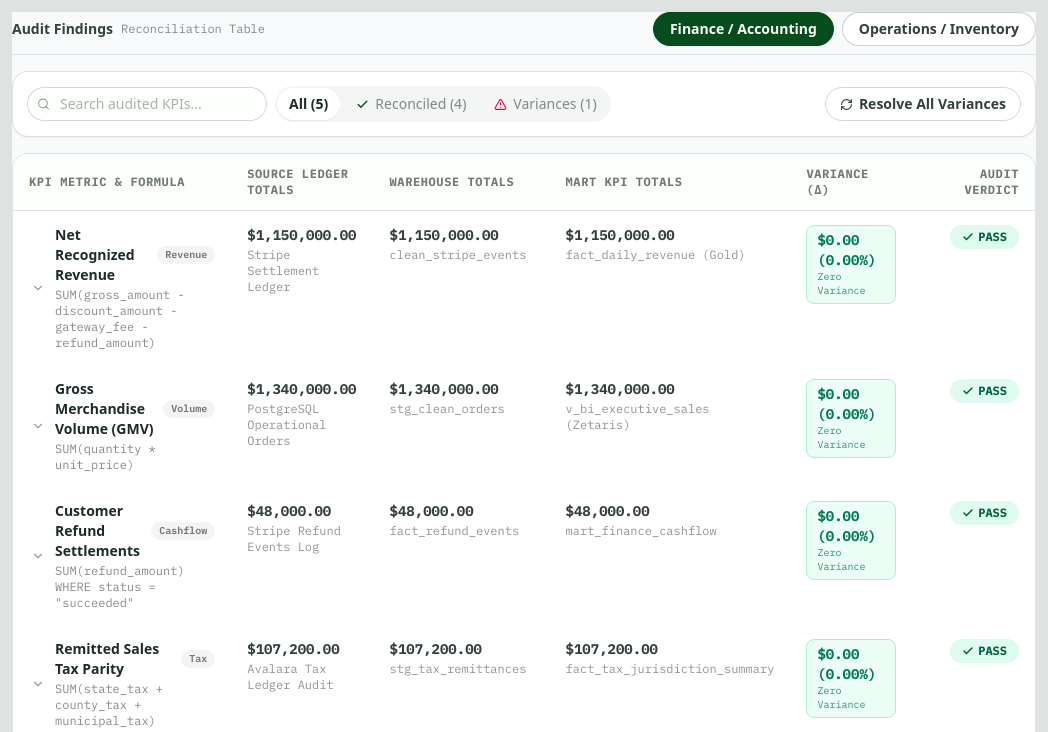
Test: Independent Audit Center (UC-10) › DomainAuditRenderer: Adaptive Selection › switches between Finance and Operations domain views
Expected: the text "Net Recognized Revenue" is shown, [55,225,135,284]
Note: Switch to Operations
Click the button "Operations / Inventory": x=939, y=29 [842,12,1036,46]
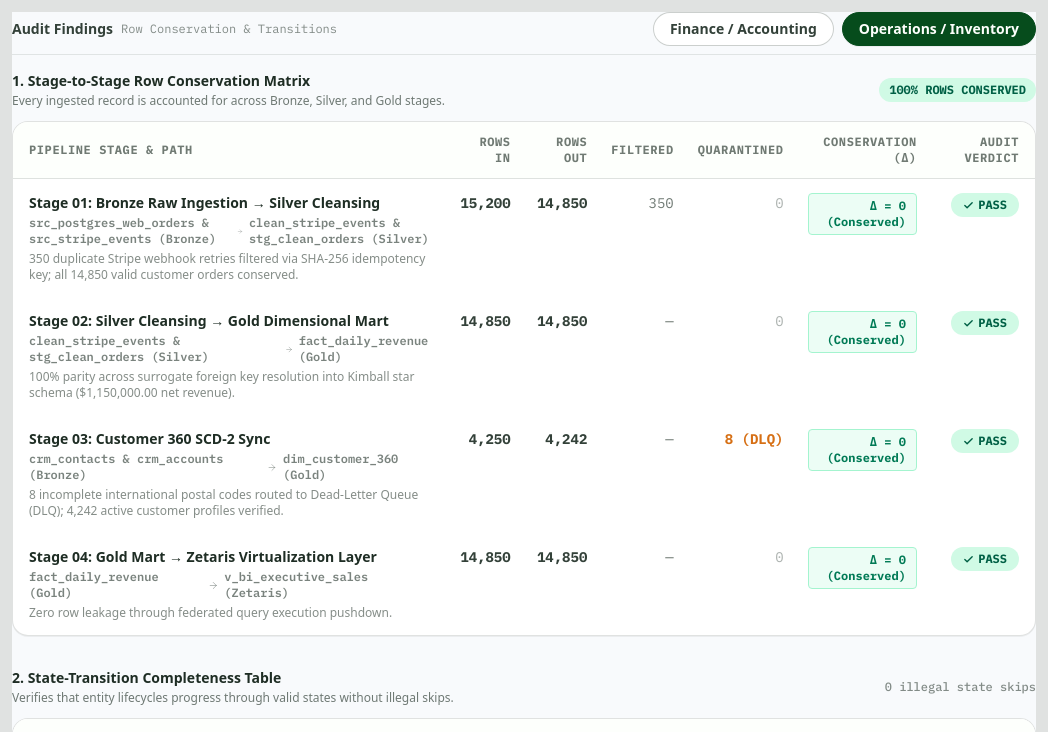
Expected: the heading "1. Stage-to-Stage Row Conservation Matrix" is shown, [12,71,310,90]
Expected: the text "Net Recognized Revenue" is gone
